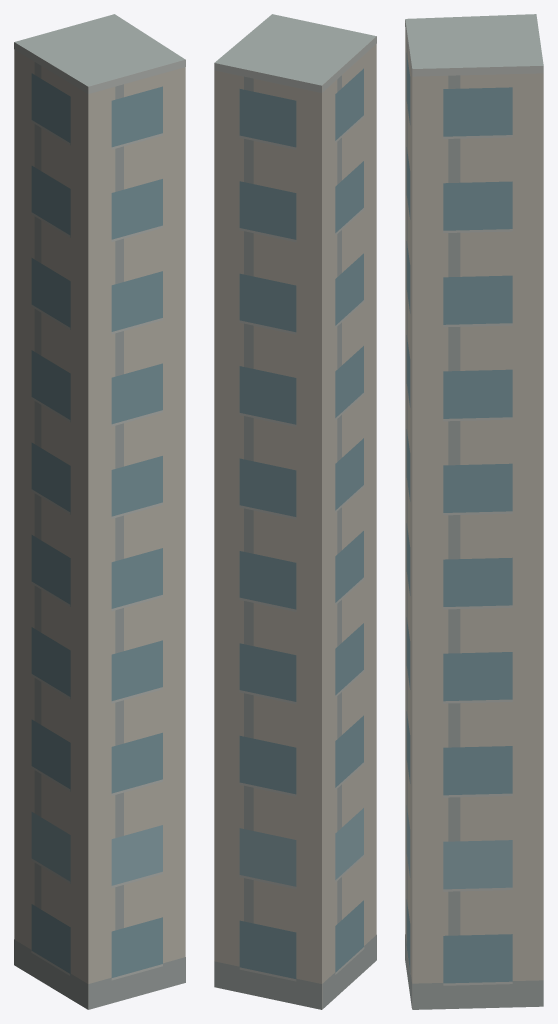
File: survey-upis-32944799.glb
3 renders of one model, left to right at view 1: azimuth 30°, elevation 25°; view 2: azimuth 150°, elevation 25°; view 3: azimuth 270°, elevation 25°, orthographic.
Visible parts, largest first — view 1: survey-upis-32944799.tmp; view 2: survey-upis-32944799.tmp; view 3: survey-upis-32944799.tmp.
Part boxes in pixels (box(x1,y1,x2,y2)): survey-upis-32944799.tmp: box(14, 14, 185, 1009); survey-upis-32944799.tmp: box(214, 14, 376, 1009); survey-upis-32944799.tmp: box(405, 14, 543, 1009).
Bounding box in the file's own units: 3.84 × 30.5 × 4.08.
